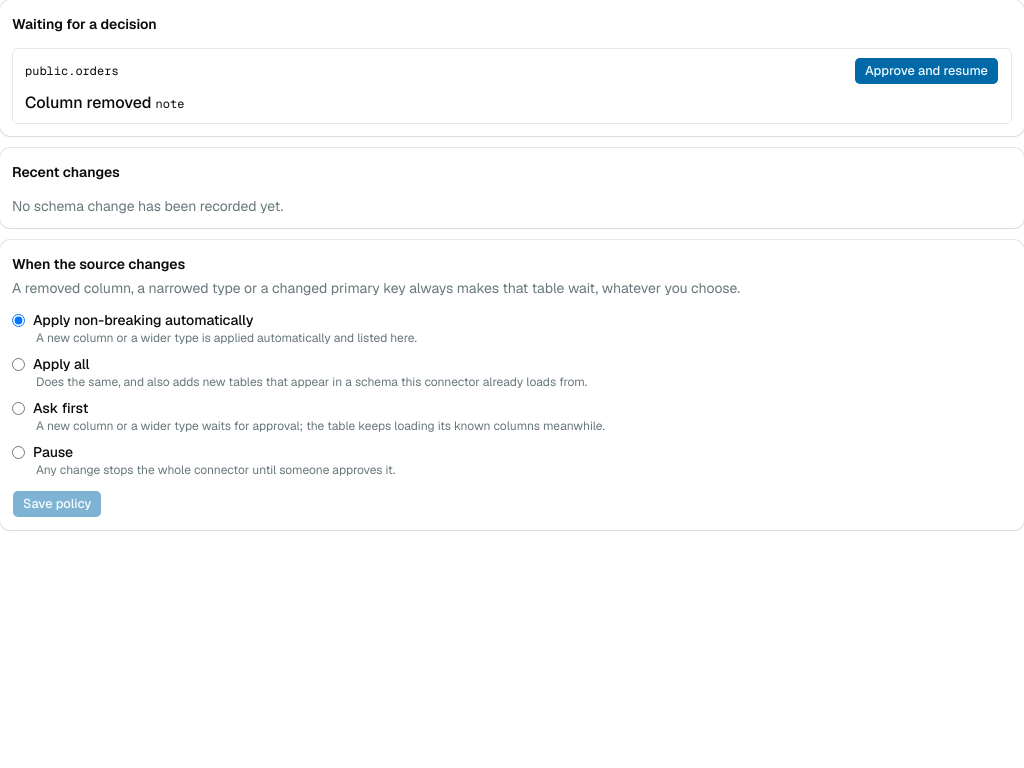
Scenario: ConnectorSchemaChangesPanel › shows the API's own message when approving is refused with a 409
Click the button "Approve and resume".
click(927, 71)  # box 854,57 -> 999,85
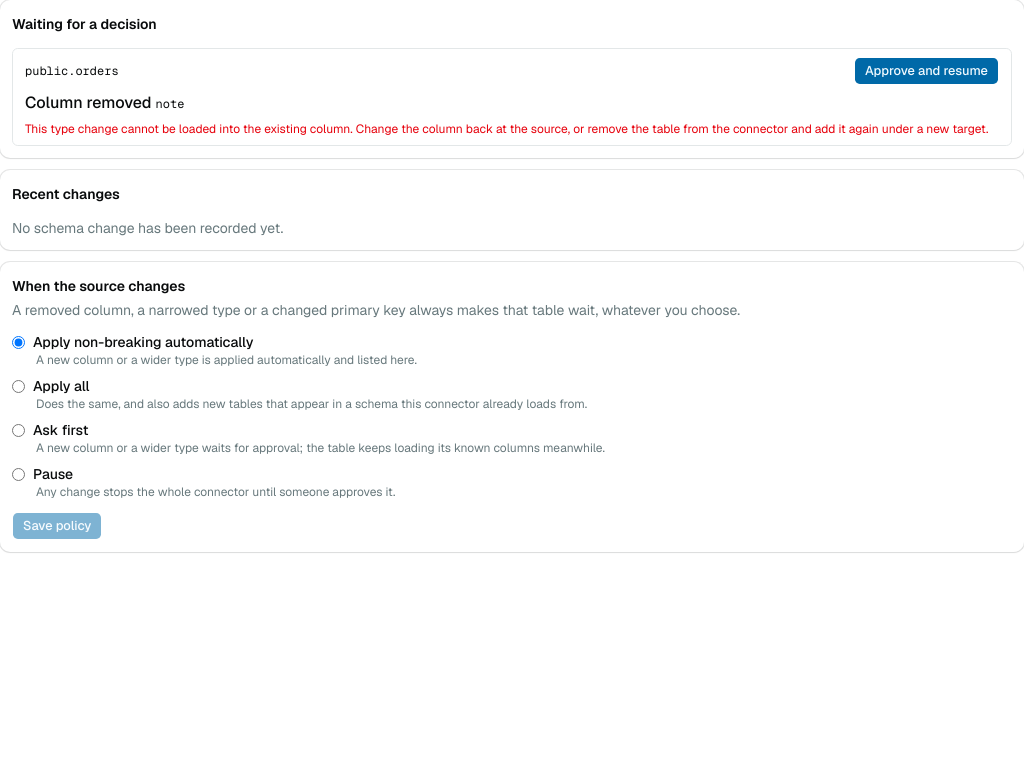
Result: the message shows "This type change cannot be loaded into the existing column. Change the column back at the source, or remove the table from the connector and add it again under" at 25,121 -> 988,137
